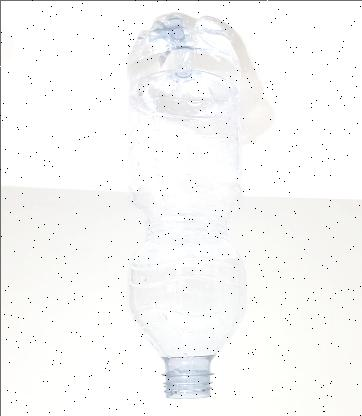Plastic Bottle: (112, 20, 247, 406)
